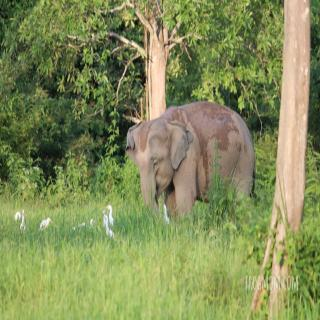Elephant: (123, 97, 260, 222)
